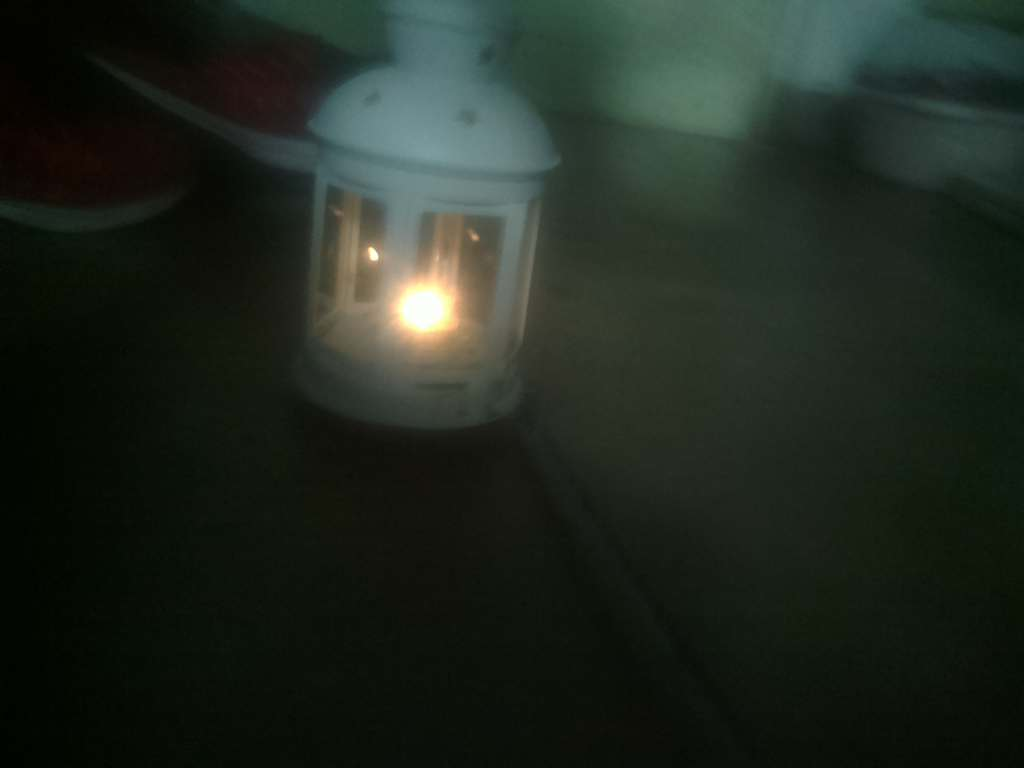fire: (371, 244, 490, 371)
